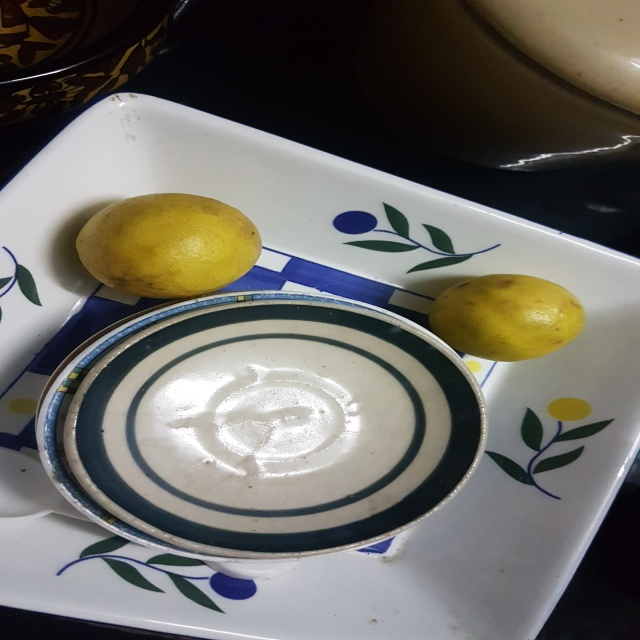lemon: (73, 181, 272, 312), (420, 256, 596, 373)
